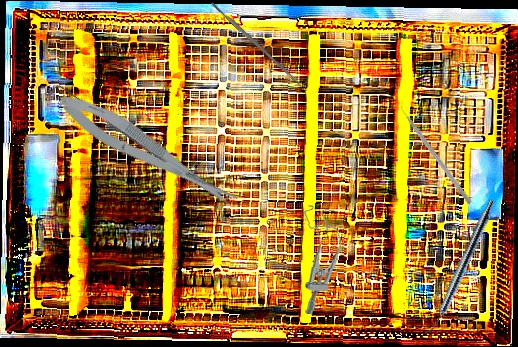Chopper: (395, 98, 478, 205)
Handpiece: (424, 197, 498, 338)
Hook Surgical: (46, 77, 226, 208)
Micro Scissor: (53, 84, 240, 219)
Scalpel Handle: (210, 0, 302, 87)
Speculum: (297, 204, 344, 317)
